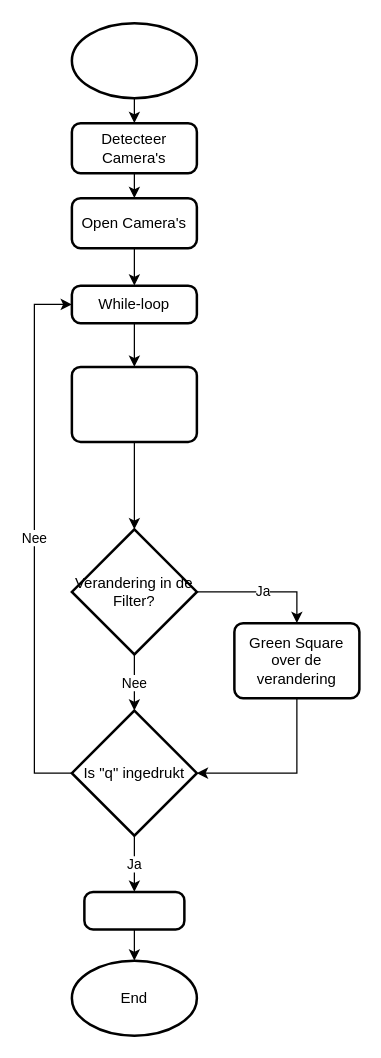
Some shapes in this 381 by 1058 pixel diagram are drawn without their labels. Here are the shapes that lost their labels. From the top down, the centre of each, then its label:
point (134, 60): Start
point (134, 403): Apply Filter to Camera
point (133, 910): break;
